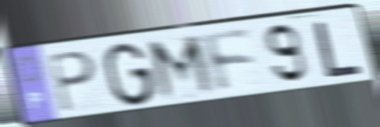9: (263, 23, 310, 87)
F: (199, 28, 259, 97)
G: (102, 41, 158, 109)
L: (311, 19, 365, 80)
M: (144, 32, 220, 104)
P: (46, 49, 99, 116)
